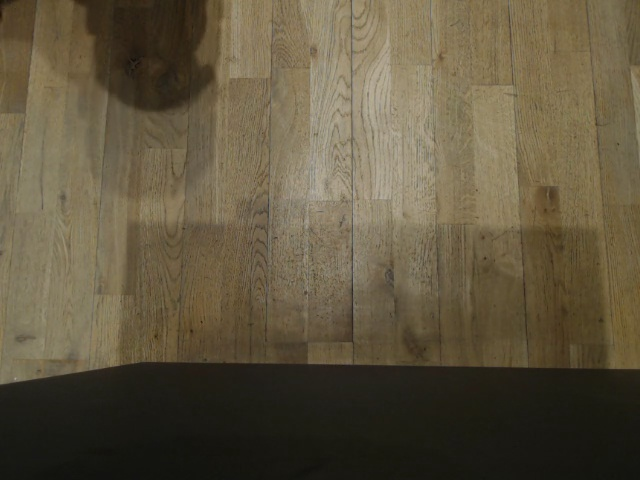beer: (152, 156, 203, 244)
